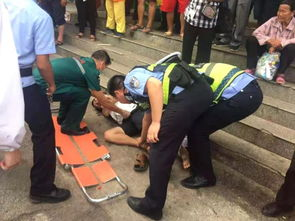10+: (1, 1, 295, 221)
down: (93, 85, 196, 173)
